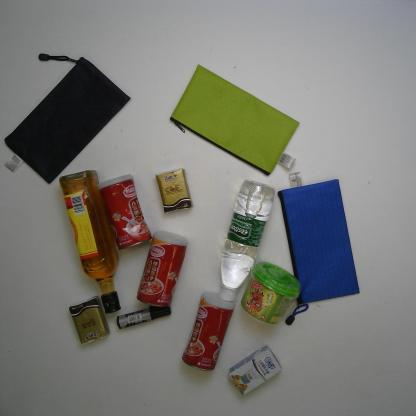Canned Food: (181, 290, 236, 374), (96, 172, 154, 251), (135, 229, 189, 309)
Drink: (218, 178, 276, 304)
Instant Drink: (239, 260, 302, 326)
Milk: (227, 342, 284, 397)
Seasoner: (58, 168, 122, 314)
Stationery: (3, 52, 132, 185), (169, 63, 303, 178), (276, 170, 361, 327), (115, 306, 174, 332)
Tissue: (67, 294, 112, 346), (154, 167, 195, 215)
